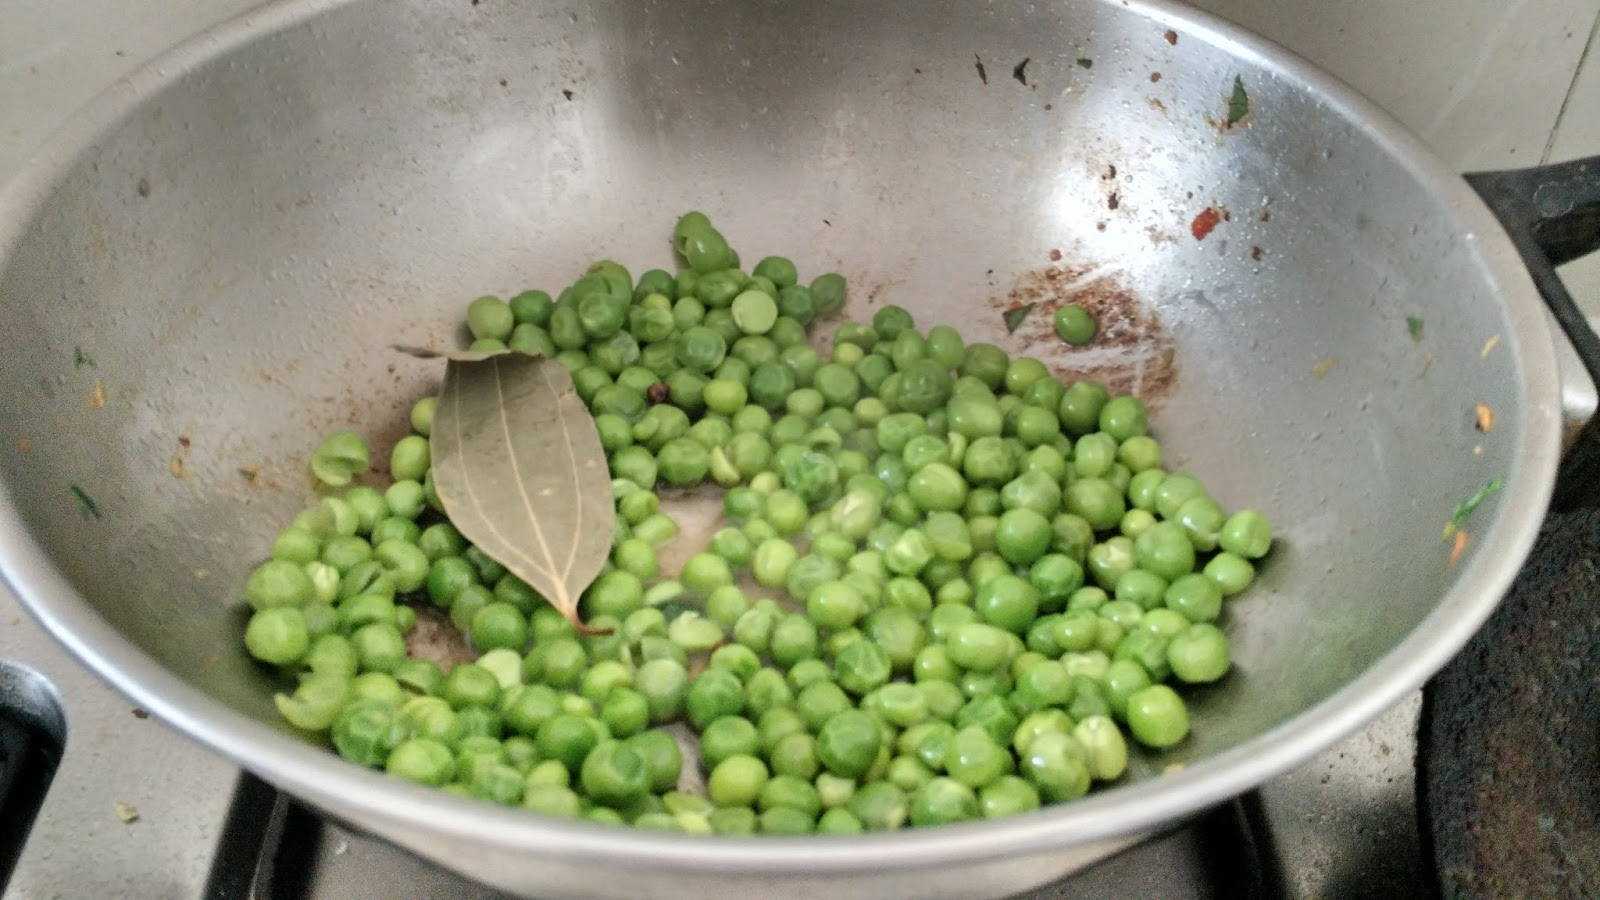boiled peas: (568, 278, 1160, 774)
